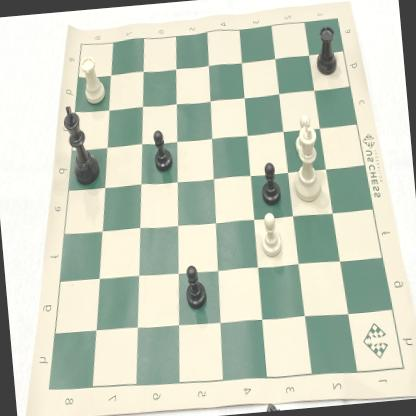black-king: (60, 101, 103, 191)
black-pawn: (180, 254, 211, 316), (148, 123, 177, 178), (256, 158, 284, 208)
black-rook: (310, 18, 345, 79)
white-king: (284, 116, 334, 208)
white-pawn: (256, 208, 289, 261), (290, 110, 322, 160)
white-rook: (76, 51, 110, 113)
